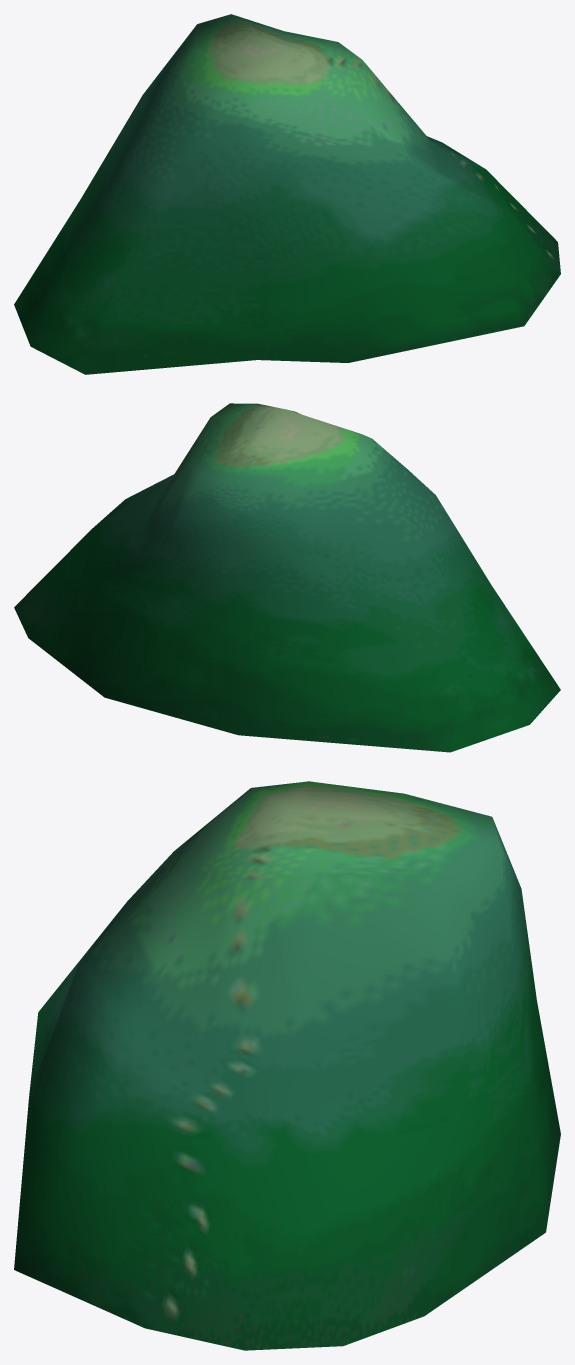
Rendered from cj_shan1.fbx.
3 renders of one model, top to bottom at view 1: azimuth 30°, elevation 25°; view 2: azimuth 150°, elevation 25°; view 3: azimuth 270°, elevation 25°, orthographic. The views are drawn at different scales.
Visible parts, largest first — view 1: cj_shan1; view 2: cj_shan1; view 3: cj_shan1.
Part boxes in pixels (bbox=[...]): cj_shan1: bbox=[14, 14, 560, 374]; cj_shan1: bbox=[14, 403, 560, 752]; cj_shan1: bbox=[14, 781, 560, 1350].
Size of the model in its own units: 6261 by 2871 by 3978.
